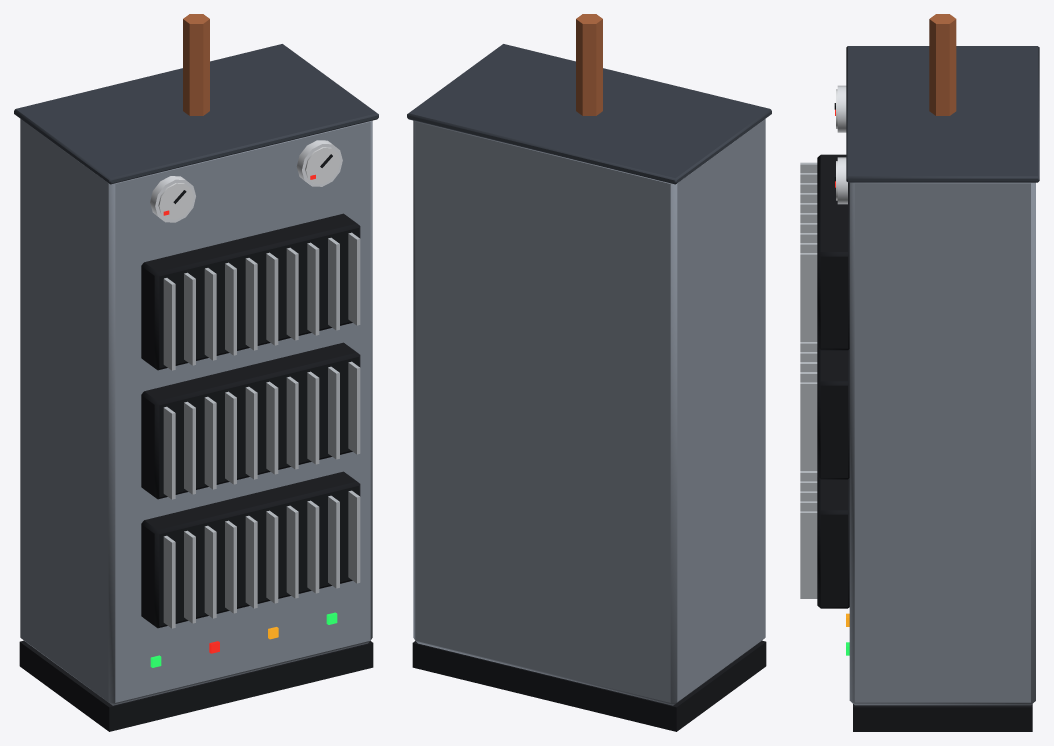
Rendered from generator_rectifier_cabinet.glb.
The picture shows the model from 3 angles, left to right: view 1: azimuth 30°, elevation 25°; view 2: azimuth 150°, elevation 25°; view 3: azimuth 270°, elevation 25°; orthographic projection.
Parts seen in each view (by area): view 1: generator_rectifier_cabinet; view 2: generator_rectifier_cabinet; view 3: generator_rectifier_cabinet.
Part boxes in pixels (x1,y1,x2,y2): generator_rectifier_cabinet: (14,14,378,731); generator_rectifier_cabinet: (407,14,771,731); generator_rectifier_cabinet: (800,14,1039,731).
Size of the model in its own units: 0.92 by 2.11 by 0.705.
